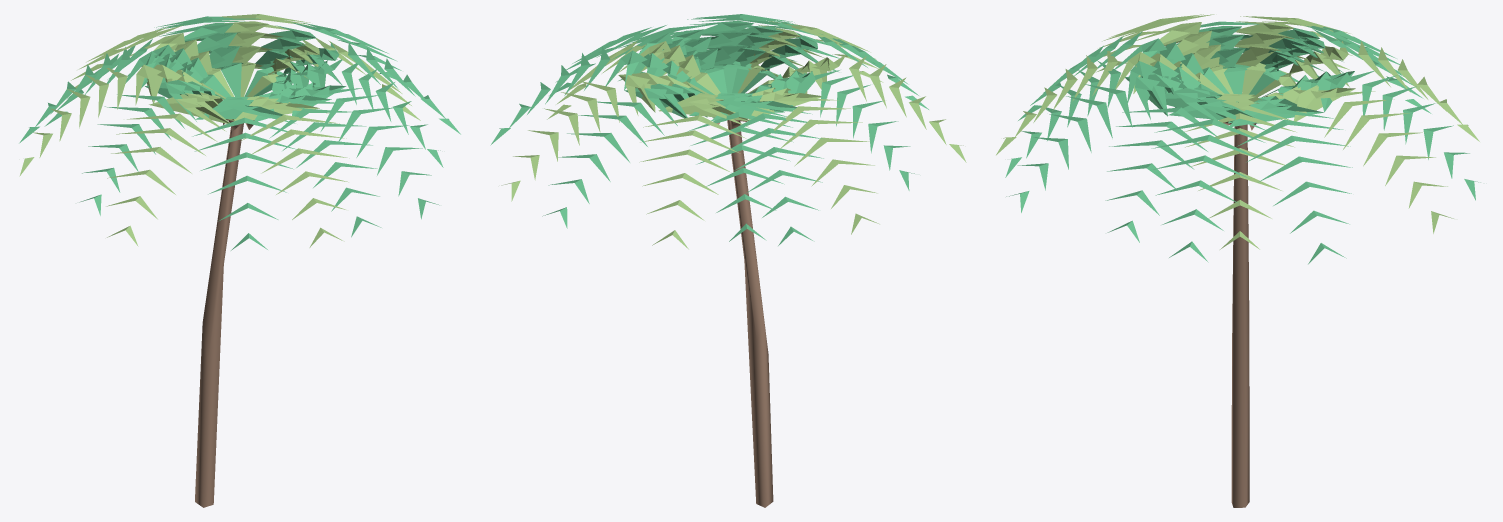
File: palm_0_lod.glb
3 views of the same model, side by side, from view 1: azimuth 30°, elevation 25°; view 2: azimuth 150°, elevation 25°; view 3: azimuth 270°, elevation 25° (orthographic). The views are drawn at different scales.
Parts seen in each view (by area): view 1: Coconut.004; view 2: Coconut.004; view 3: Coconut.004.
Boxes of the visible parts, x1,y1,x2,y2 form: Coconut.004: [19, 14, 460, 507]; Coconut.004: [490, 14, 966, 507]; Coconut.004: [996, 14, 1480, 507].
Bounding box in the file's own units: 8.93 × 9.48 × 9.25.
